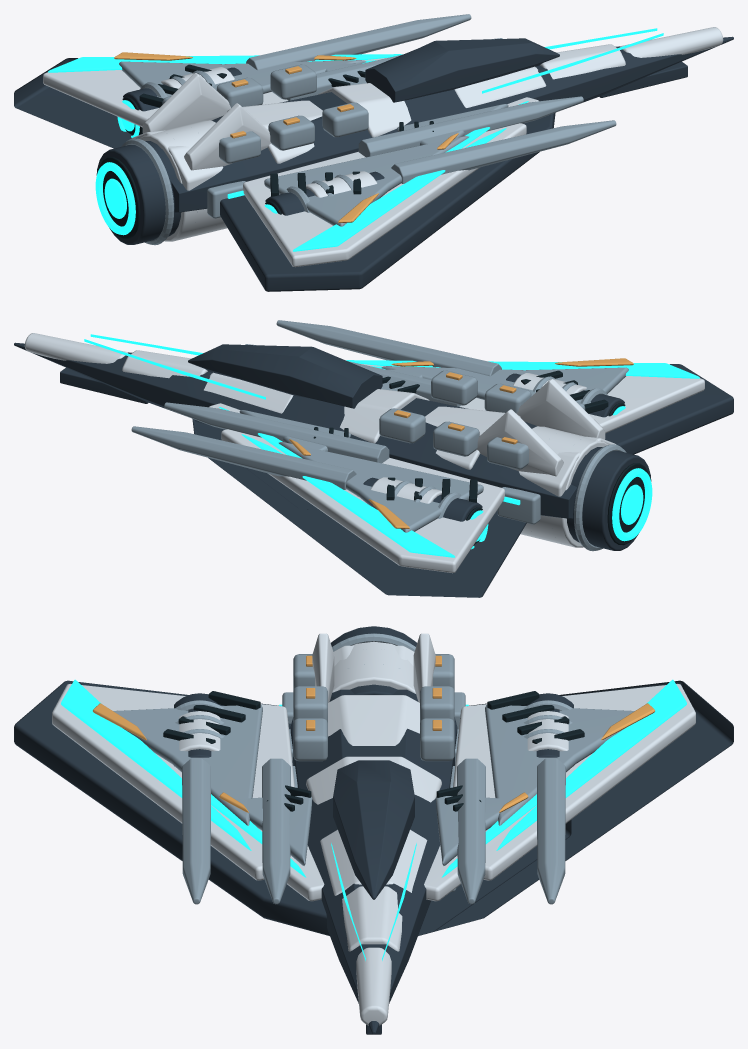
The model's file is ship-player.glb.
3 renders of one model, top to bottom at view 1: azimuth 30°, elevation 25°; view 2: azimuth 150°, elevation 25°; view 3: azimuth 270°, elevation 25°, orthographic. The views are drawn at different scales.
Visible parts, largest first — view 1: Graphite frame, Ceramic titanium, Machined silver, Ion cyan, Carbon insets, Copper contacts; view 2: Graphite frame, Machined silver, Ceramic titanium, Ion cyan, Carbon insets, Copper contacts; view 3: Graphite frame, Ceramic titanium, Machined silver, Ion cyan, Carbon insets, Copper contacts.
Boxes of the visible parts, x1,y1,x2,y2 form: Graphite frame: (14,36,733,291); Ceramic titanium: (43,27,723,267); Machined silver: (119,14,616,245); Ion cyan: (48,28,663,251); Carbon insets: (98,64,433,239); Copper contacts: (114,52,458,222); Graphite frame: (14,342,733,597); Machined silver: (131,320,628,551); Ceramic titanium: (24,333,704,573); Ion cyan: (84,334,699,557); Carbon insets: (313,370,649,545); Copper contacts: (289,358,633,528); Graphite frame: (14,626,733,1034); Ceramic titanium: (52,633,695,1025); Machined silver: (113,633,634,904); Ion cyan: (61,679,686,960); Carbon insets: (163,691,584,811); Copper contacts: (93,655,654,812).
Bounding box in the file's own units: 5.54 × 1.15 × 4.55.
